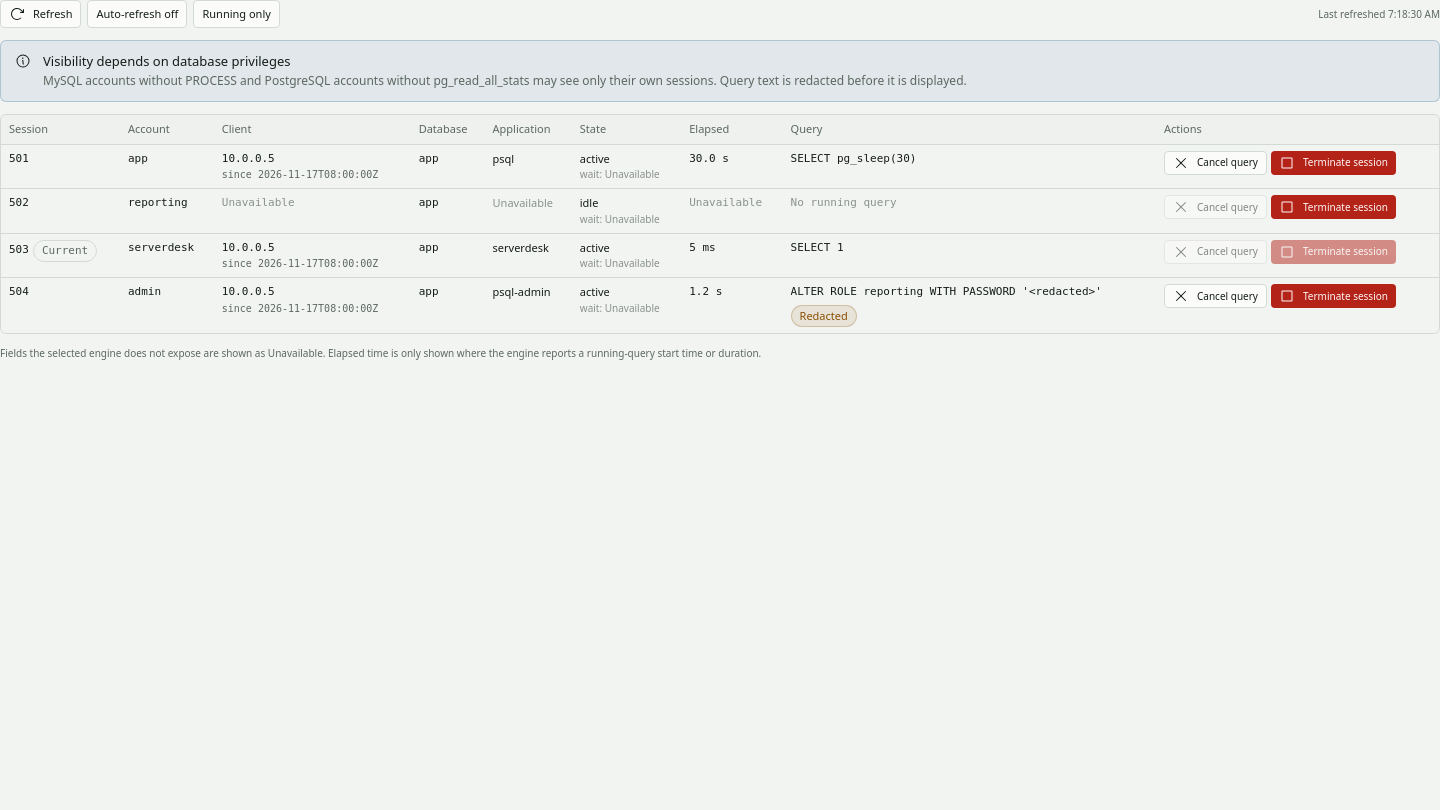
Test: DatabaseSessionsPanel › shows a permission denial without claiming success
Expected: the text "SELECT pg_sleep(30)" is shown, [791, 152, 916, 164]
Click the button "Cancel query" in the row of "501" at (1215, 162), box [1164, 150, 1267, 174]
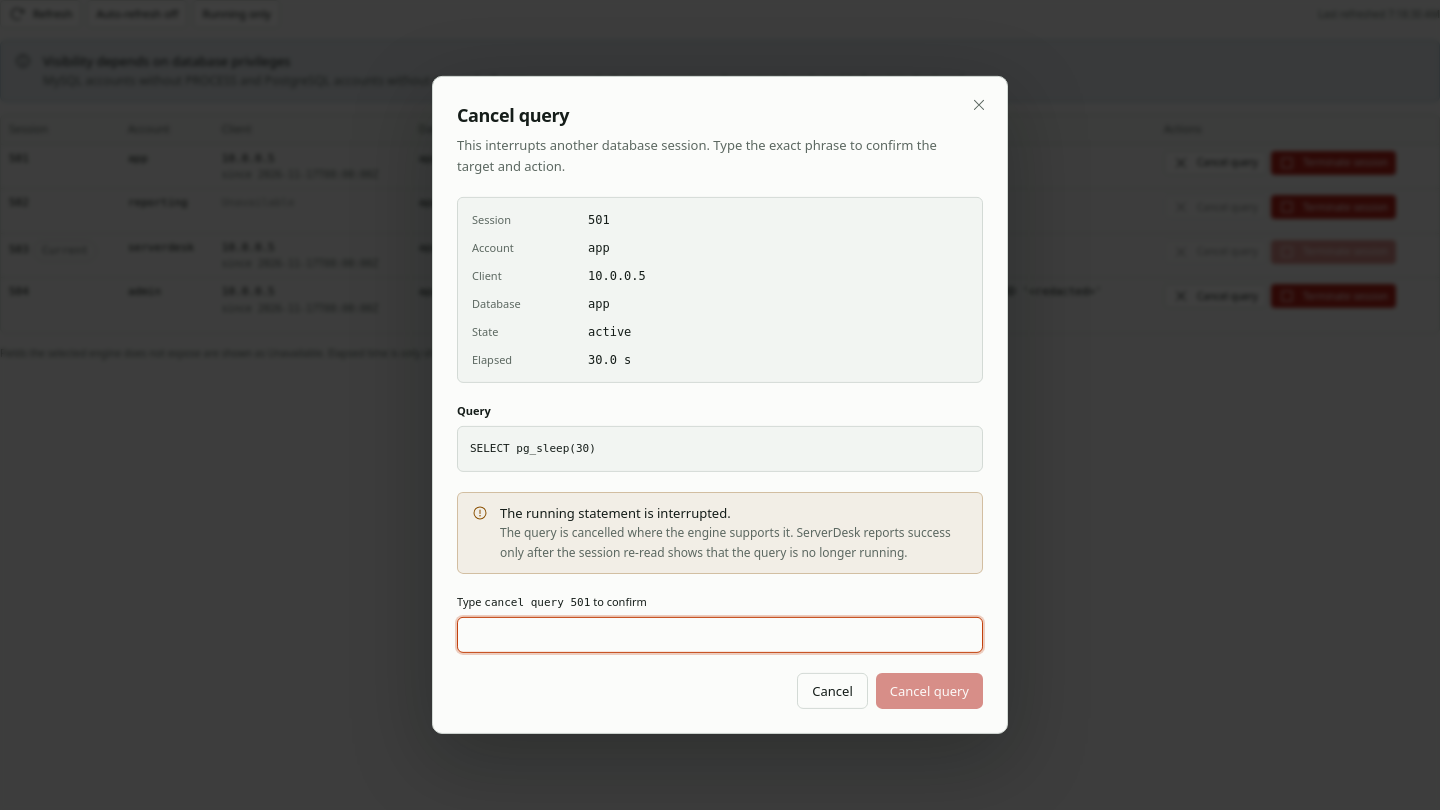
Type "cancel query 501" into the field labelled "Type cancel query 501 to confirm" at (720, 635), box [457, 617, 983, 653]
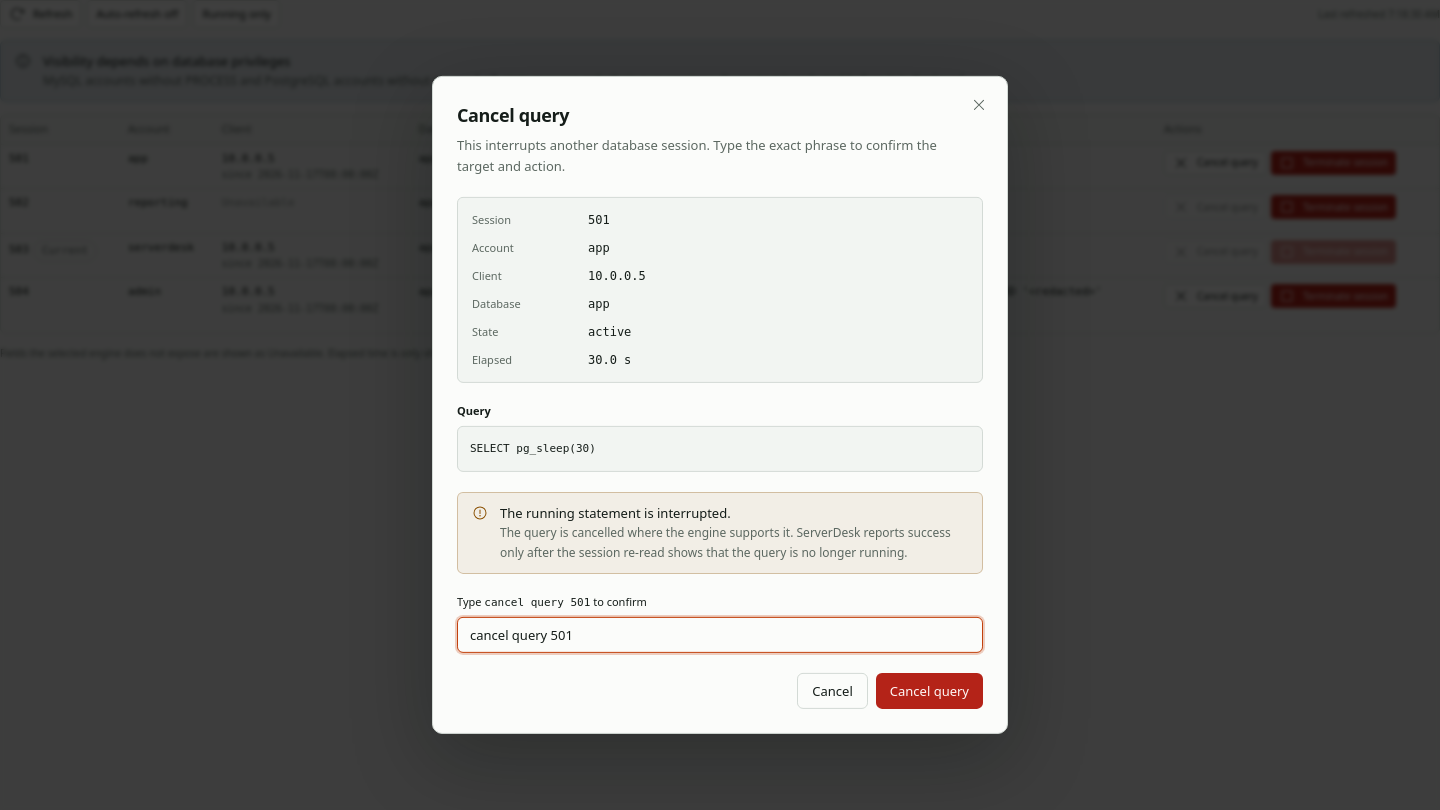
Click the button "Cancel query" at (929, 691), box [876, 673, 983, 709]
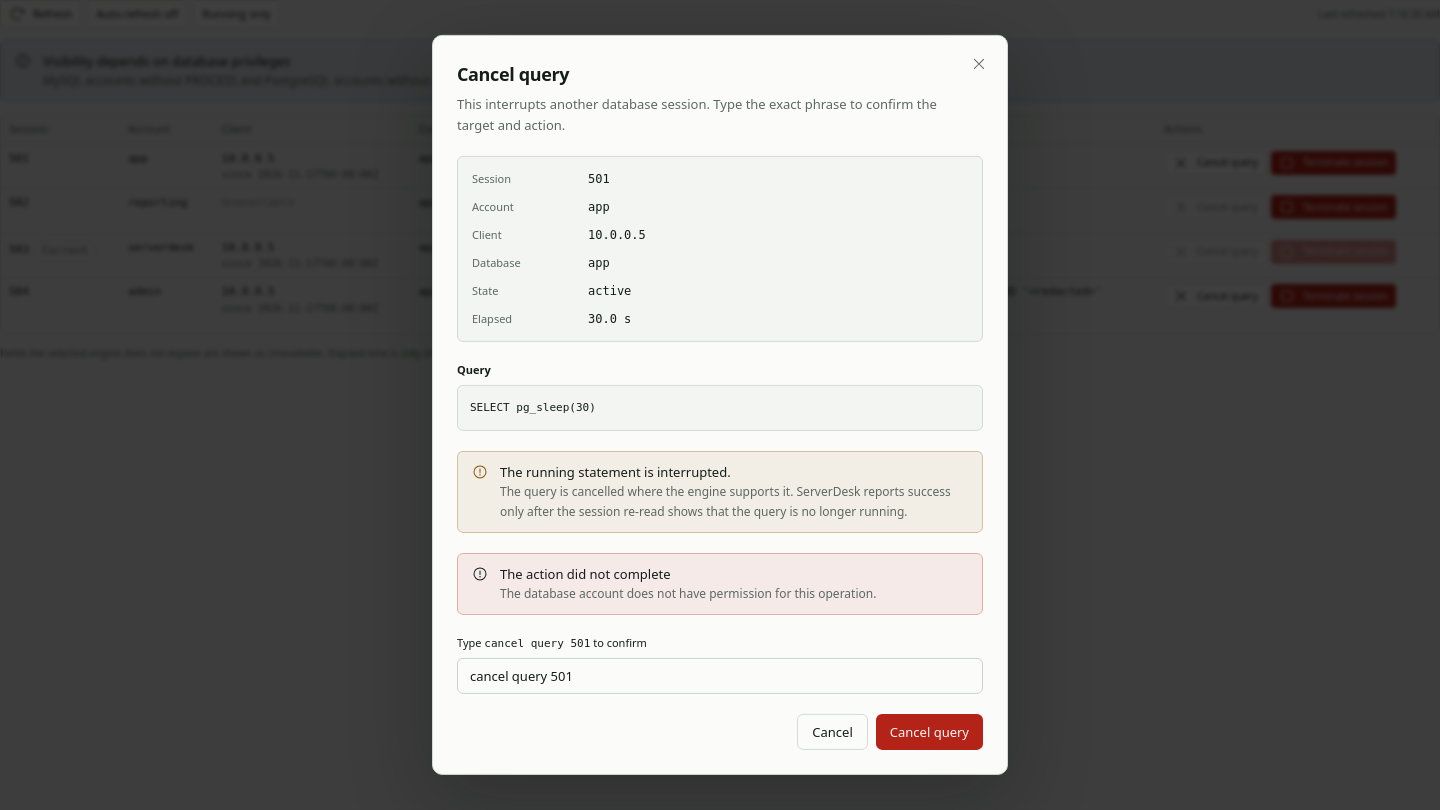
Expected: the text "The action did not complete" is shown, [500, 565, 670, 583]
Expected: the text "The database account does not have permission for this operation." is shown, [500, 584, 876, 604]
